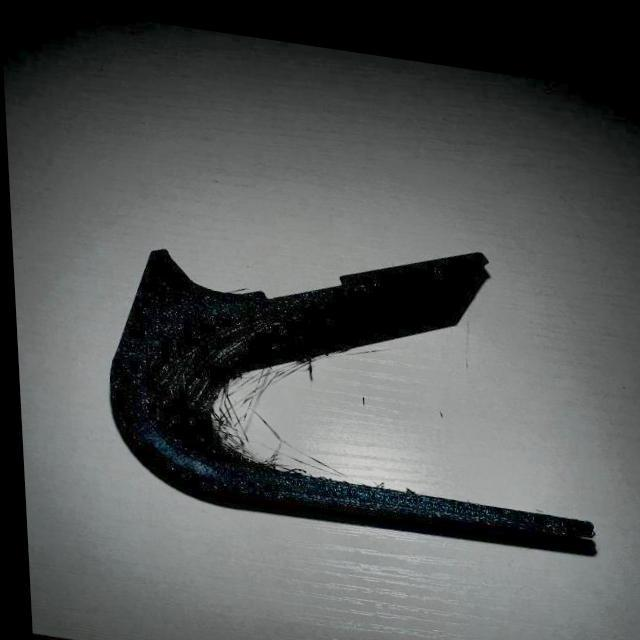stringing: (153, 373, 200, 412), (162, 343, 204, 378), (199, 322, 242, 356), (181, 412, 225, 445), (233, 310, 274, 336), (210, 384, 237, 418)
